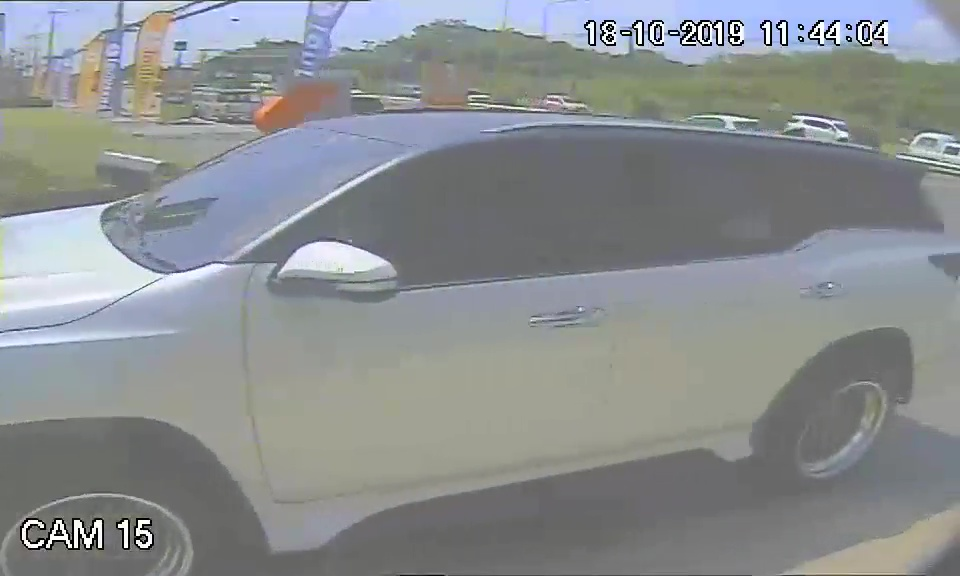pickup: (2, 111, 954, 515)
